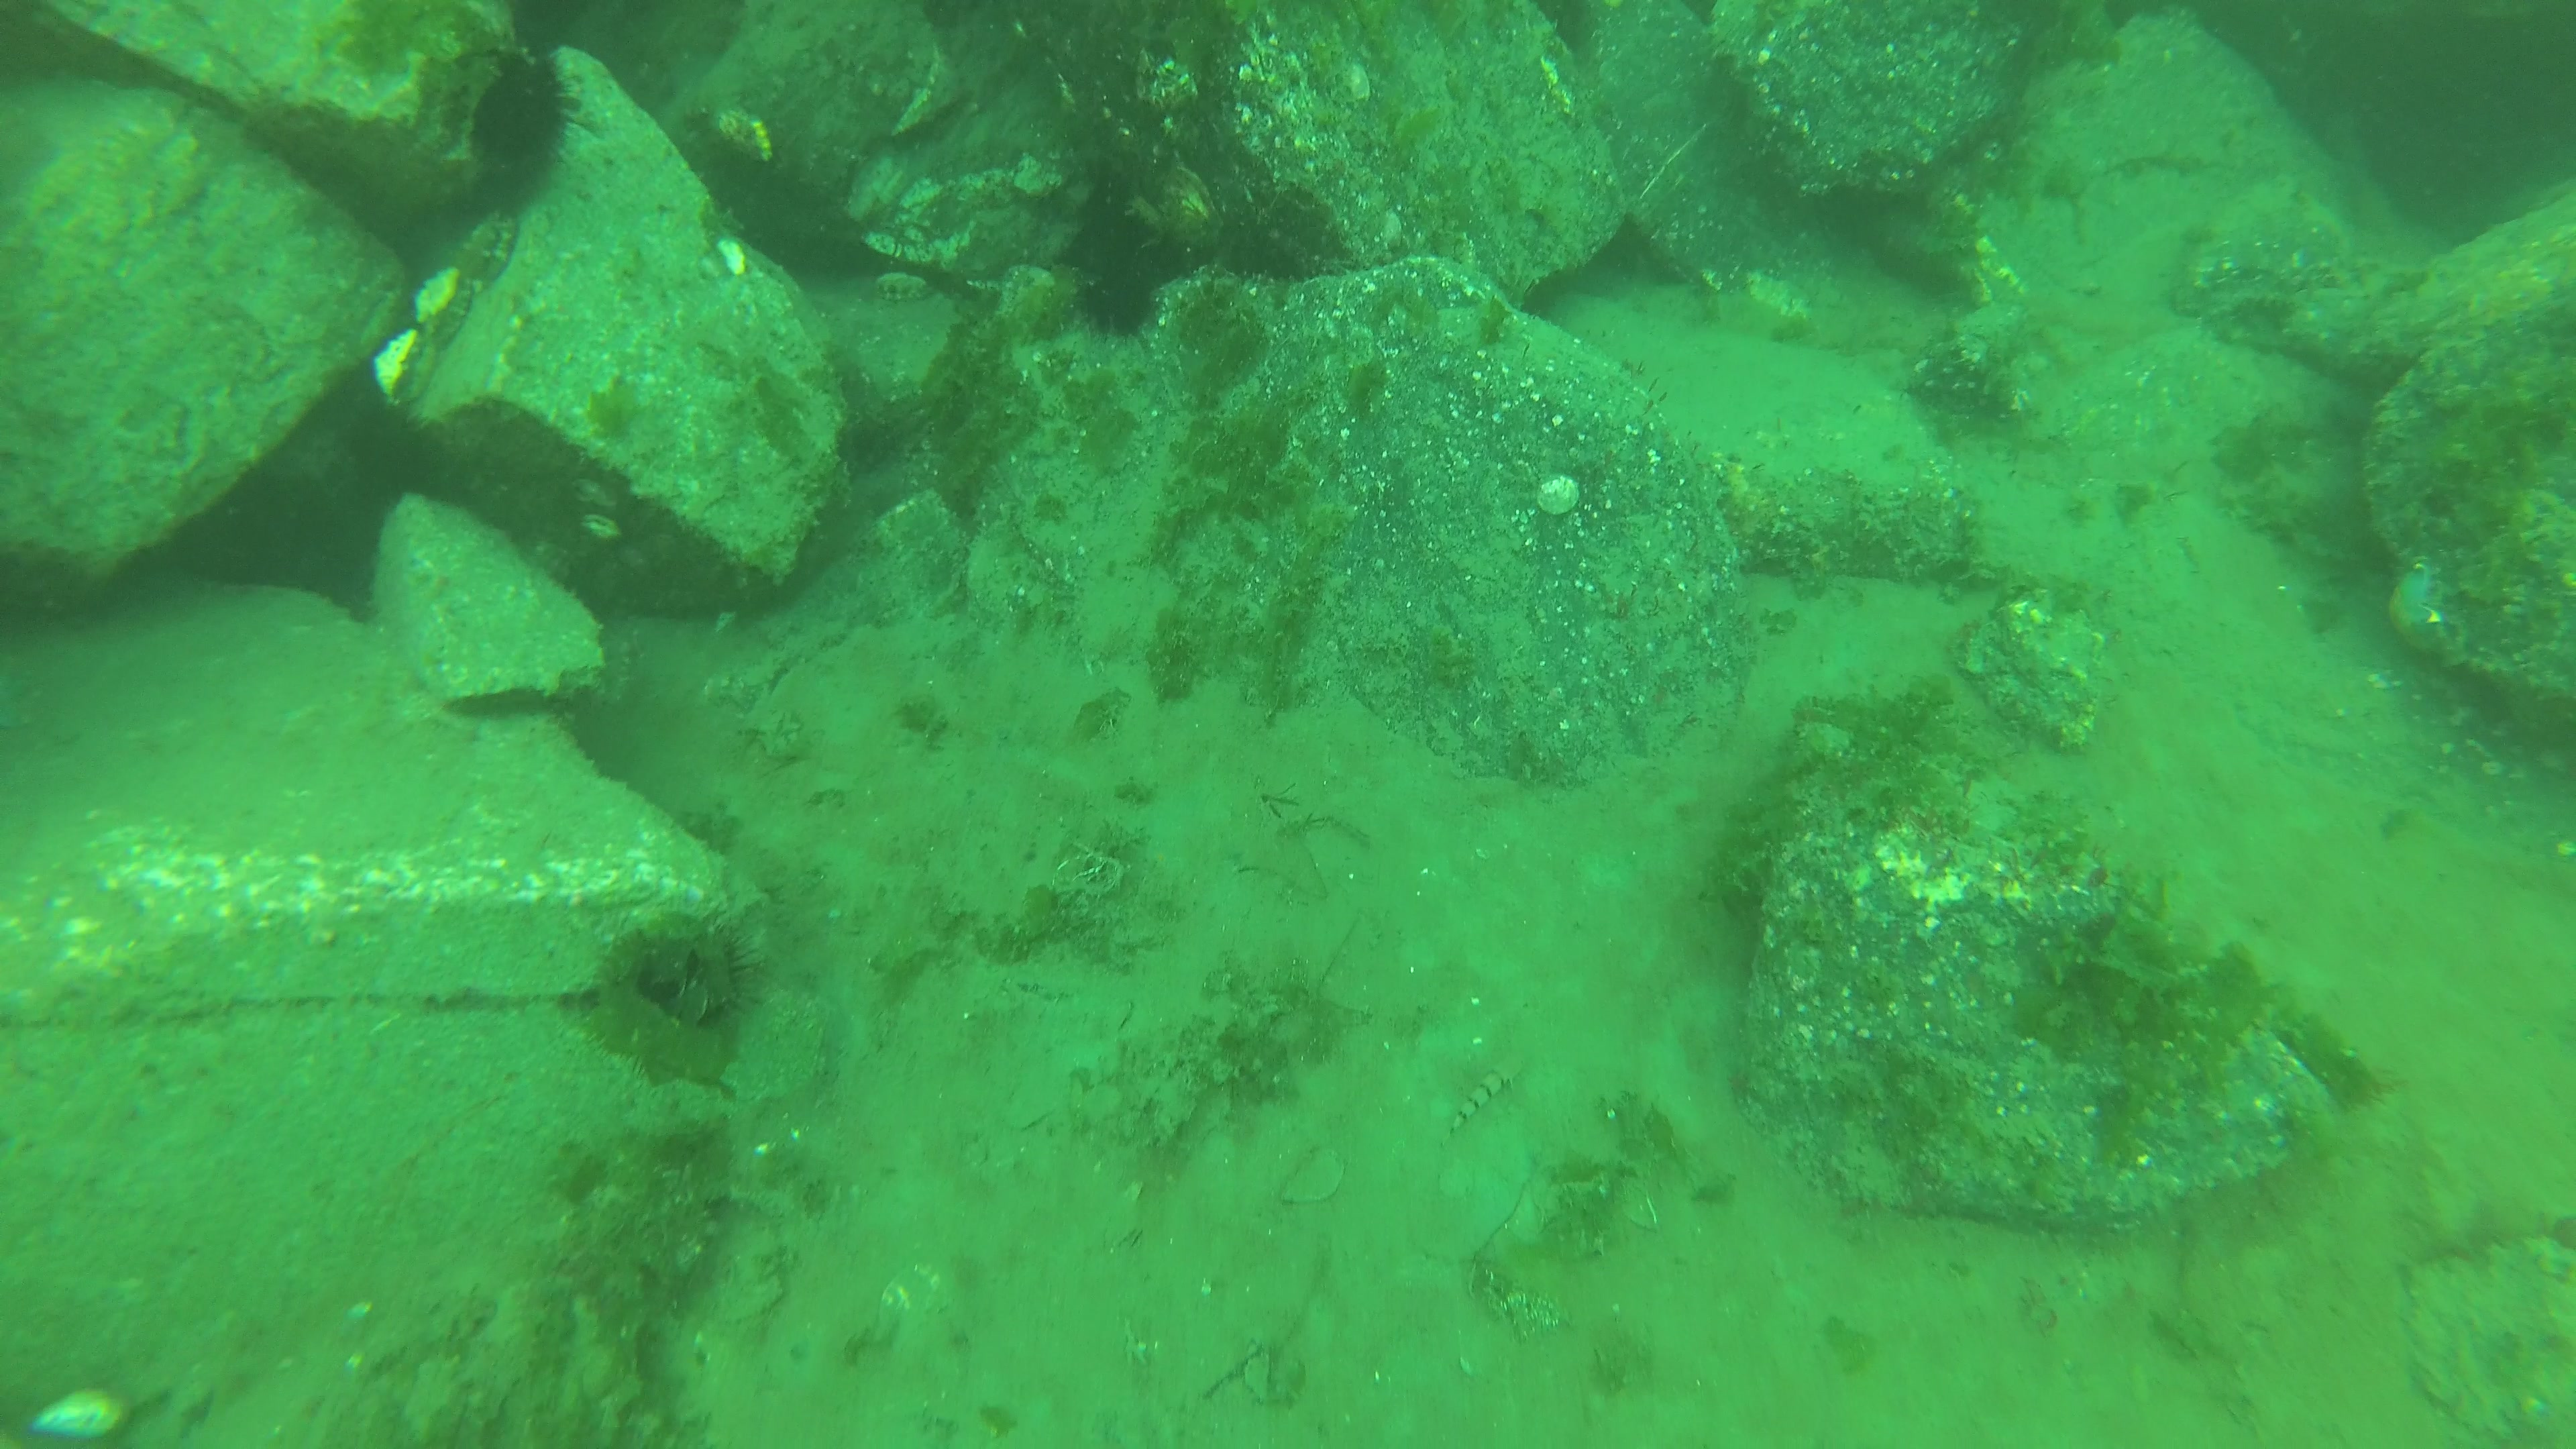echinus: (580, 911, 775, 1051), (462, 37, 591, 221)
starfish: (2385, 557, 2454, 667)
